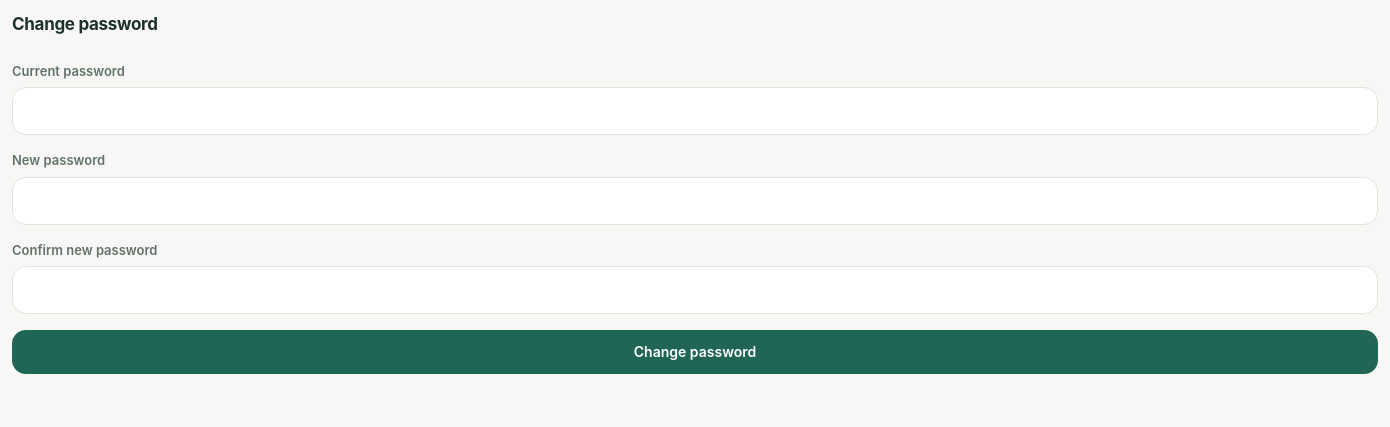
Scenario: ChangePasswordForm › an uncertain outcome clears every field, explains how to recover, and never claims success
Type "old-password" into the password field with test id "pw-current". click: (695, 111)
box: 12,87 -> 1378,135
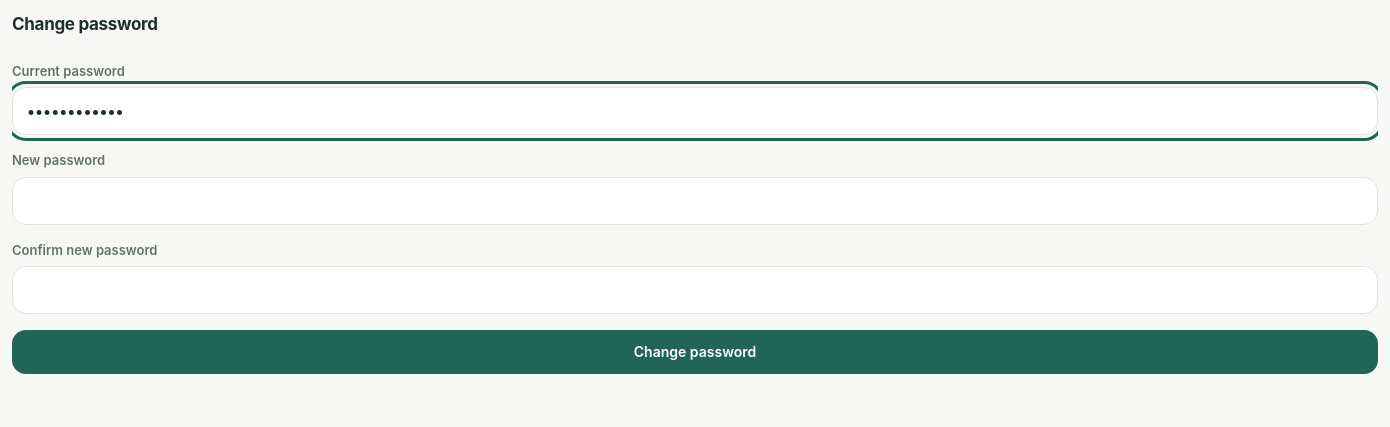
Type "new-password" into the password field with test id "pw-new". click: (695, 200)
box: 12,176 -> 1378,224
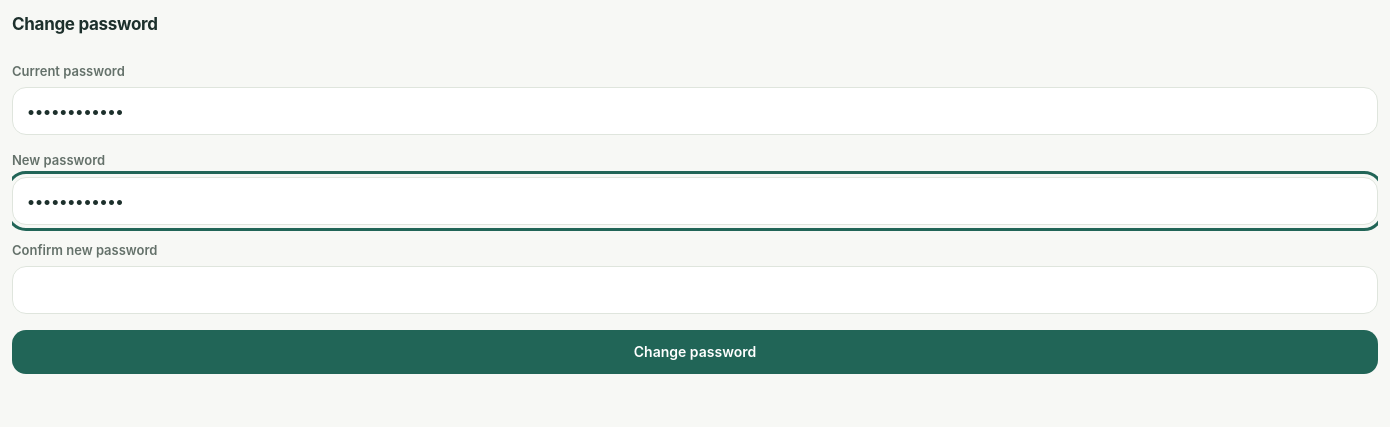
Type "new-password" into the password field with test id "pw-confirm". click: (695, 290)
box: 12,266 -> 1378,314
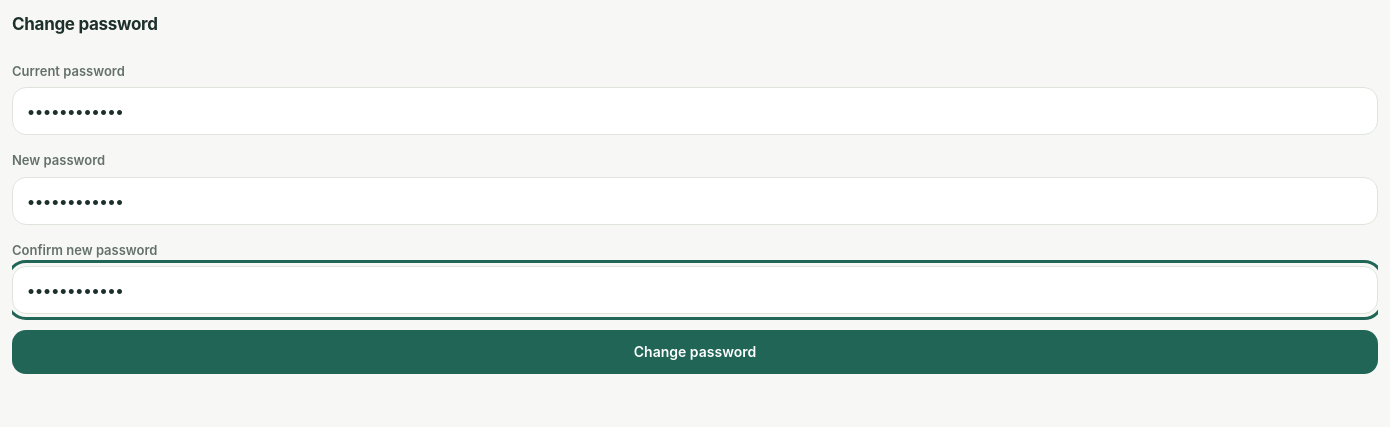
Click the button with test id "pw-submit". click: (695, 352)
box: 12,330 -> 1378,374
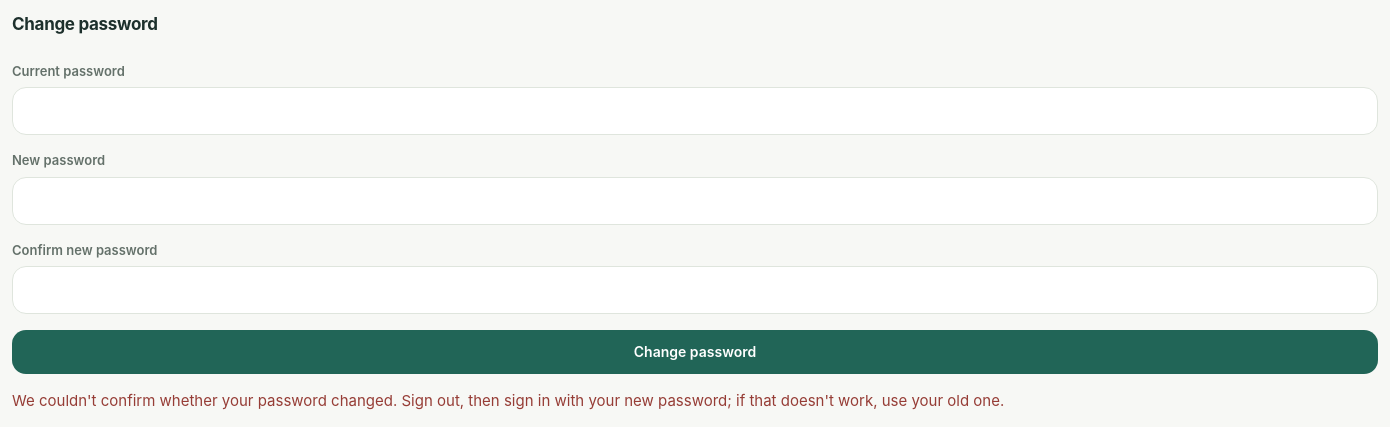
Now the message with test id "pw-outcome" shows "We couldn't confirm whether your password changed. Sign out, then sign in with your new password; if that doesn't work, use your old one.", box 12,391 -> 1004,410
Now the password field with test id "pw-current" is empty, box 12,87 -> 1378,135
Now the password field with test id "pw-new" is empty, box 12,176 -> 1378,224
